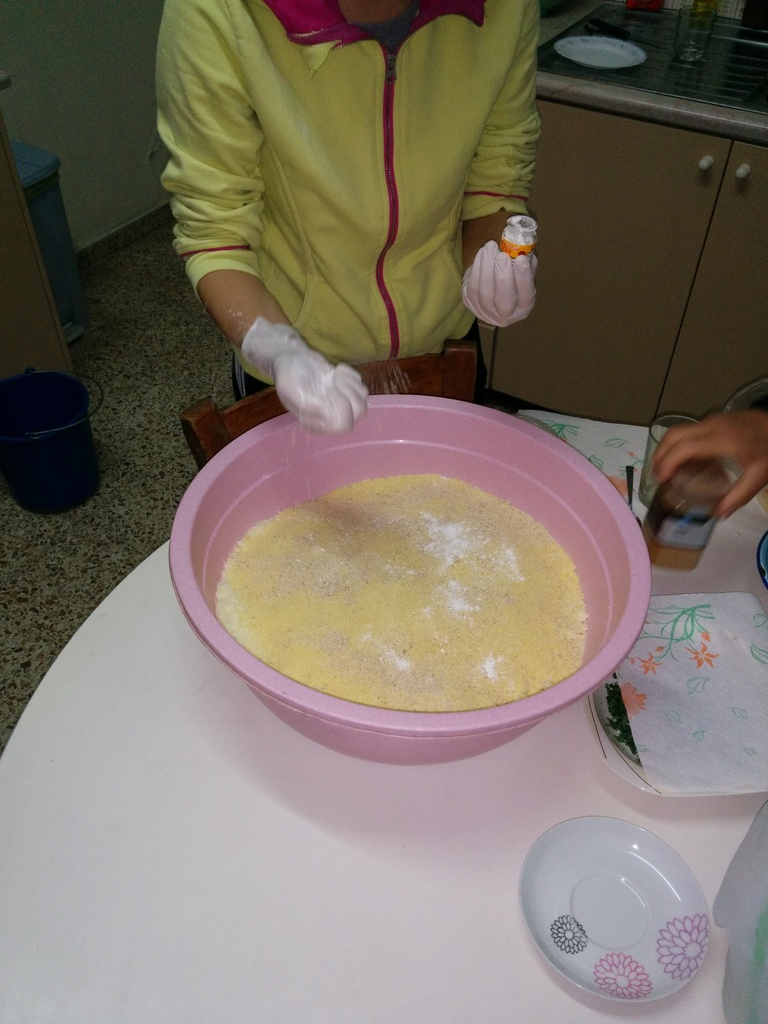plate: (519, 812, 742, 1023), (555, 36, 646, 72)
